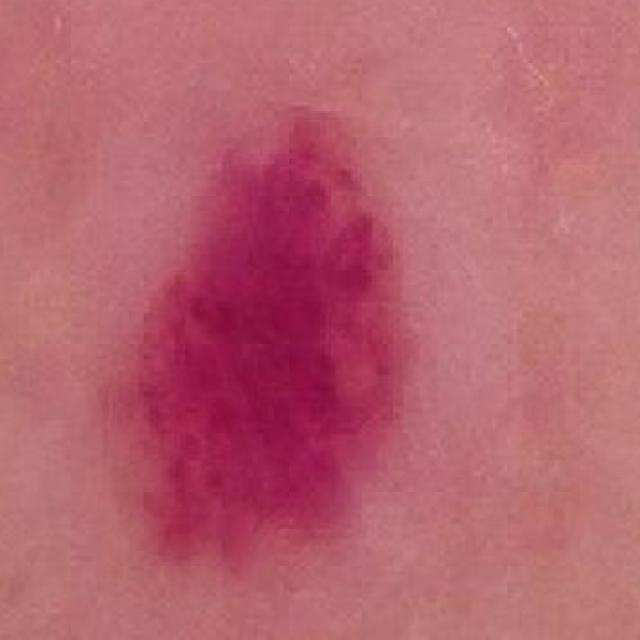VASC: (54, 16, 543, 640)
